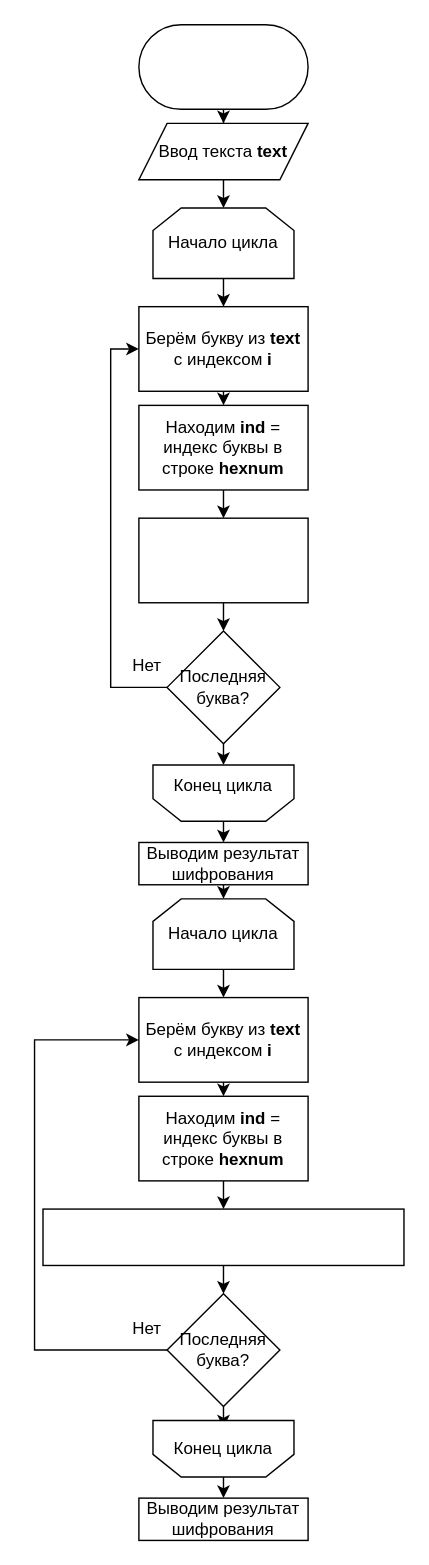
Some shapes in this 429 by 1565 pixel diagram are drawn without their labels. Each missing label, with the centre of its shape:
"Записываем в результат hexnum[s_blocks[i].index(ind)" goes at [223,1236].
"Записываем в результат hexnum[s_blocks[i][ind]]" goes at [222,560].
"Начало" goes at [222,66].
